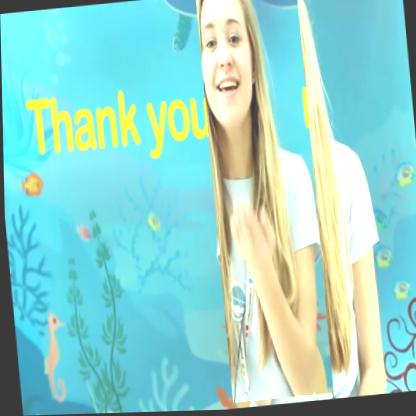ThankYou: (195, 0, 332, 404)
